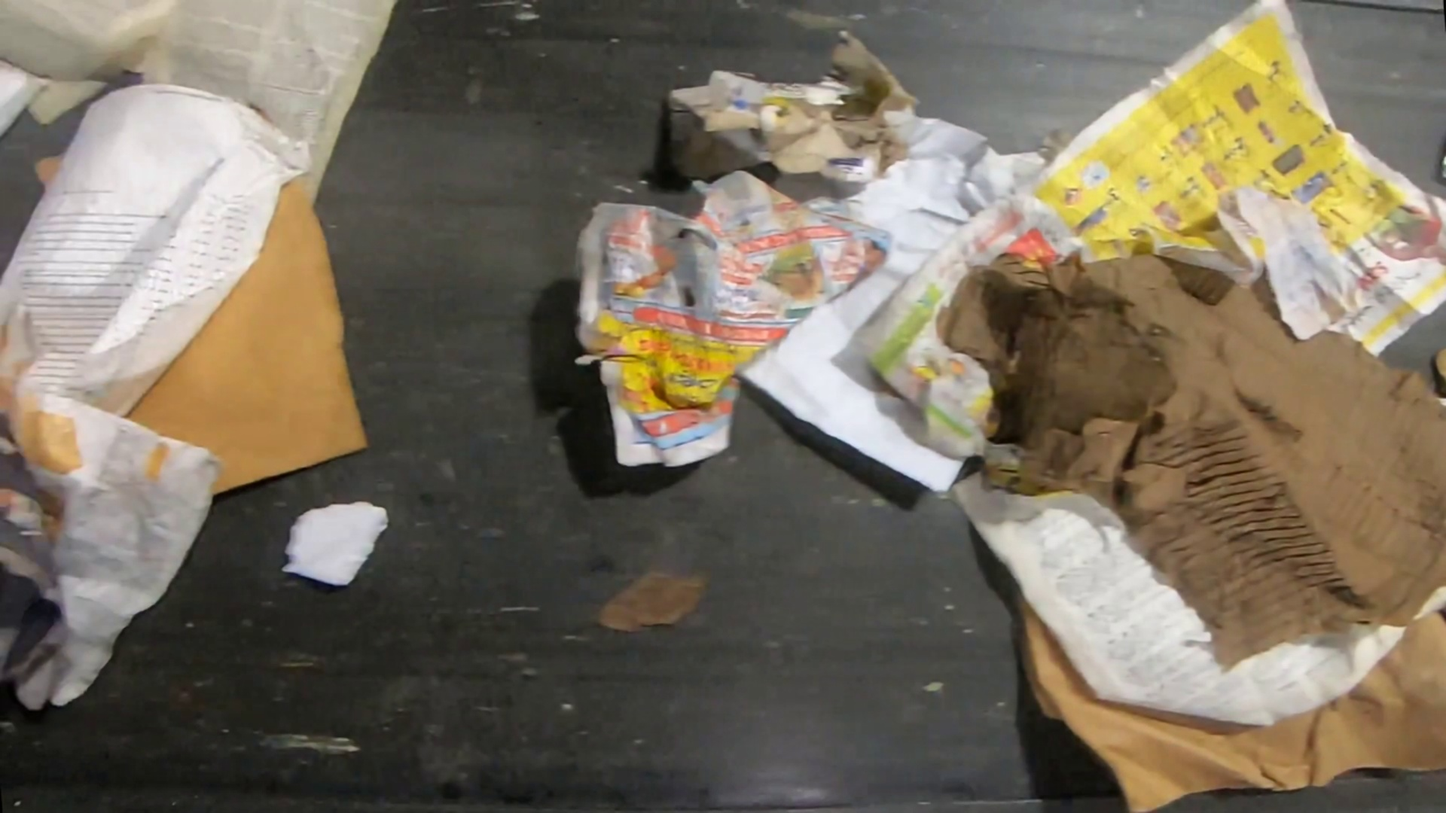cardboard: (944, 254, 1446, 668), (1018, 585, 1446, 812), (124, 175, 370, 496), (30, 155, 65, 192)
